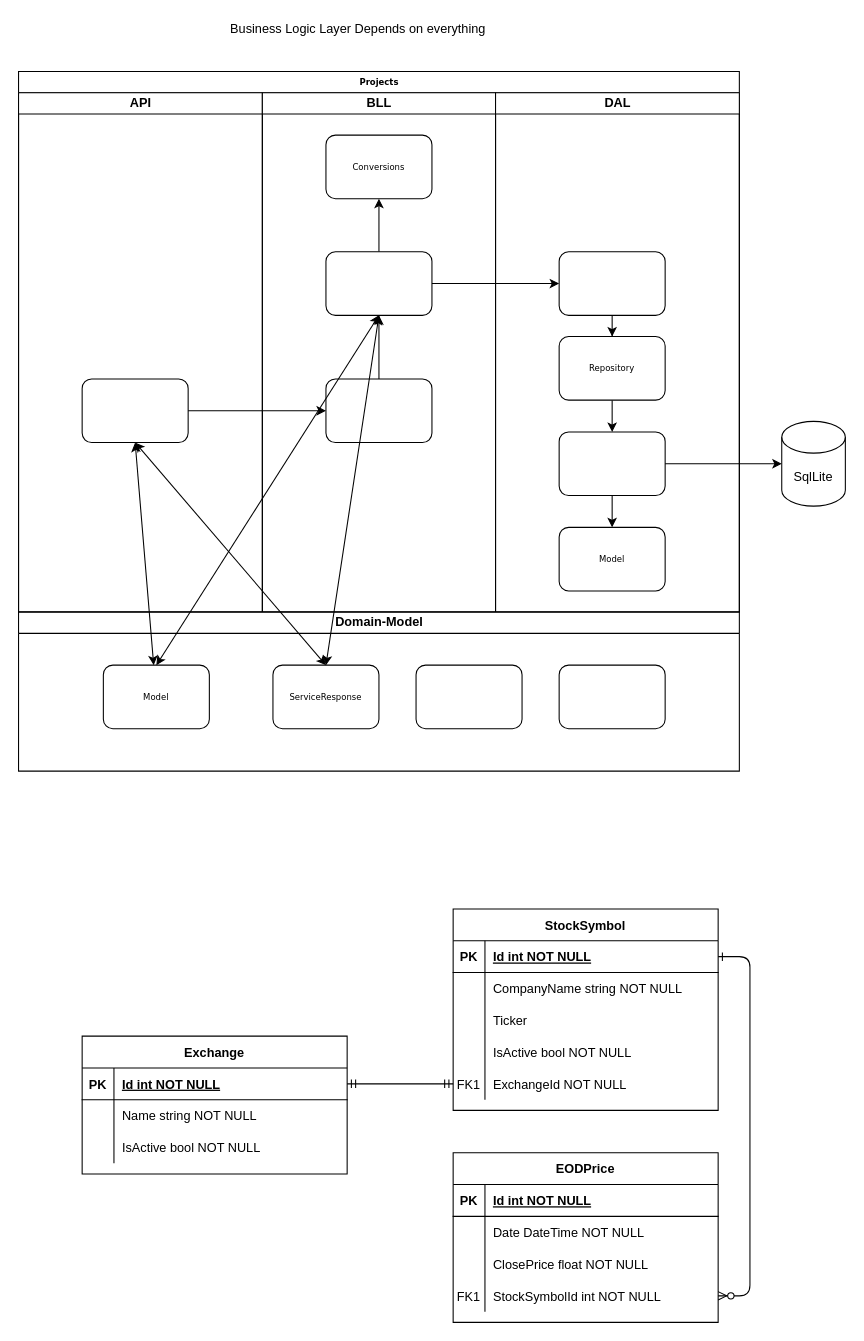
This 864x1341 diagram has some shape labels left out. Here are the shapes that lost their labels. From the top down, the centre of each, then its label:
At (x=378, y=283): "Service".
At (x=611, y=283): "RepositoryInterface".
At (x=134, y=410): "Controller".
At (x=378, y=410): "ServiceInterface".
At (x=611, y=463): "DataContext".
At (x=468, y=696): "Enum".
At (x=611, y=696): "DTO".
